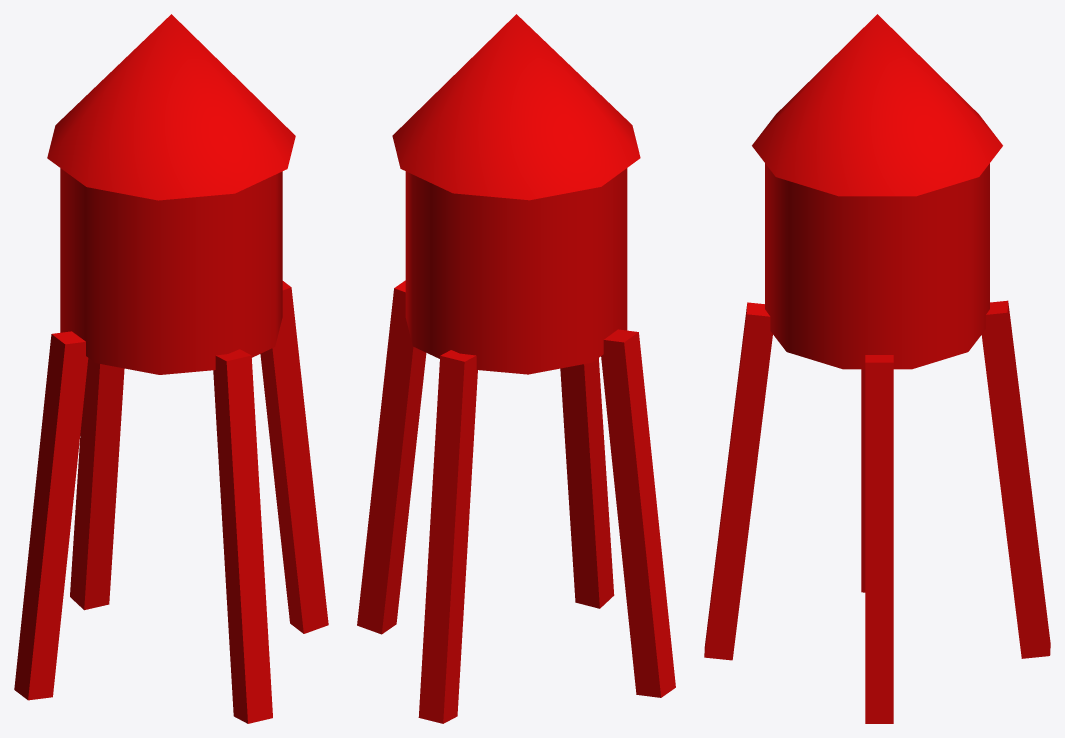
Rendered from Water_Tower_02_Collider.fbx.
3 renders of one model, left to right at view 1: azimuth 30°, elevation 25°; view 2: azimuth 150°, elevation 25°; view 3: azimuth 270°, elevation 25°, orthographic.
Parts seen in each view (by area): view 1: Water_Tower_02_Collider; view 2: Water_Tower_02_Collider; view 3: Water_Tower_02_Collider.
Boxes of the visible parts, x1=… form: Water_Tower_02_Collider: x1=14, y1=14, x2=328, y2=723; Water_Tower_02_Collider: x1=357, y1=14, x2=675, y2=723; Water_Tower_02_Collider: x1=704, y1=14, x2=1050, y2=723.
Size of the model in its own units: 598 by 1218 by 598.
